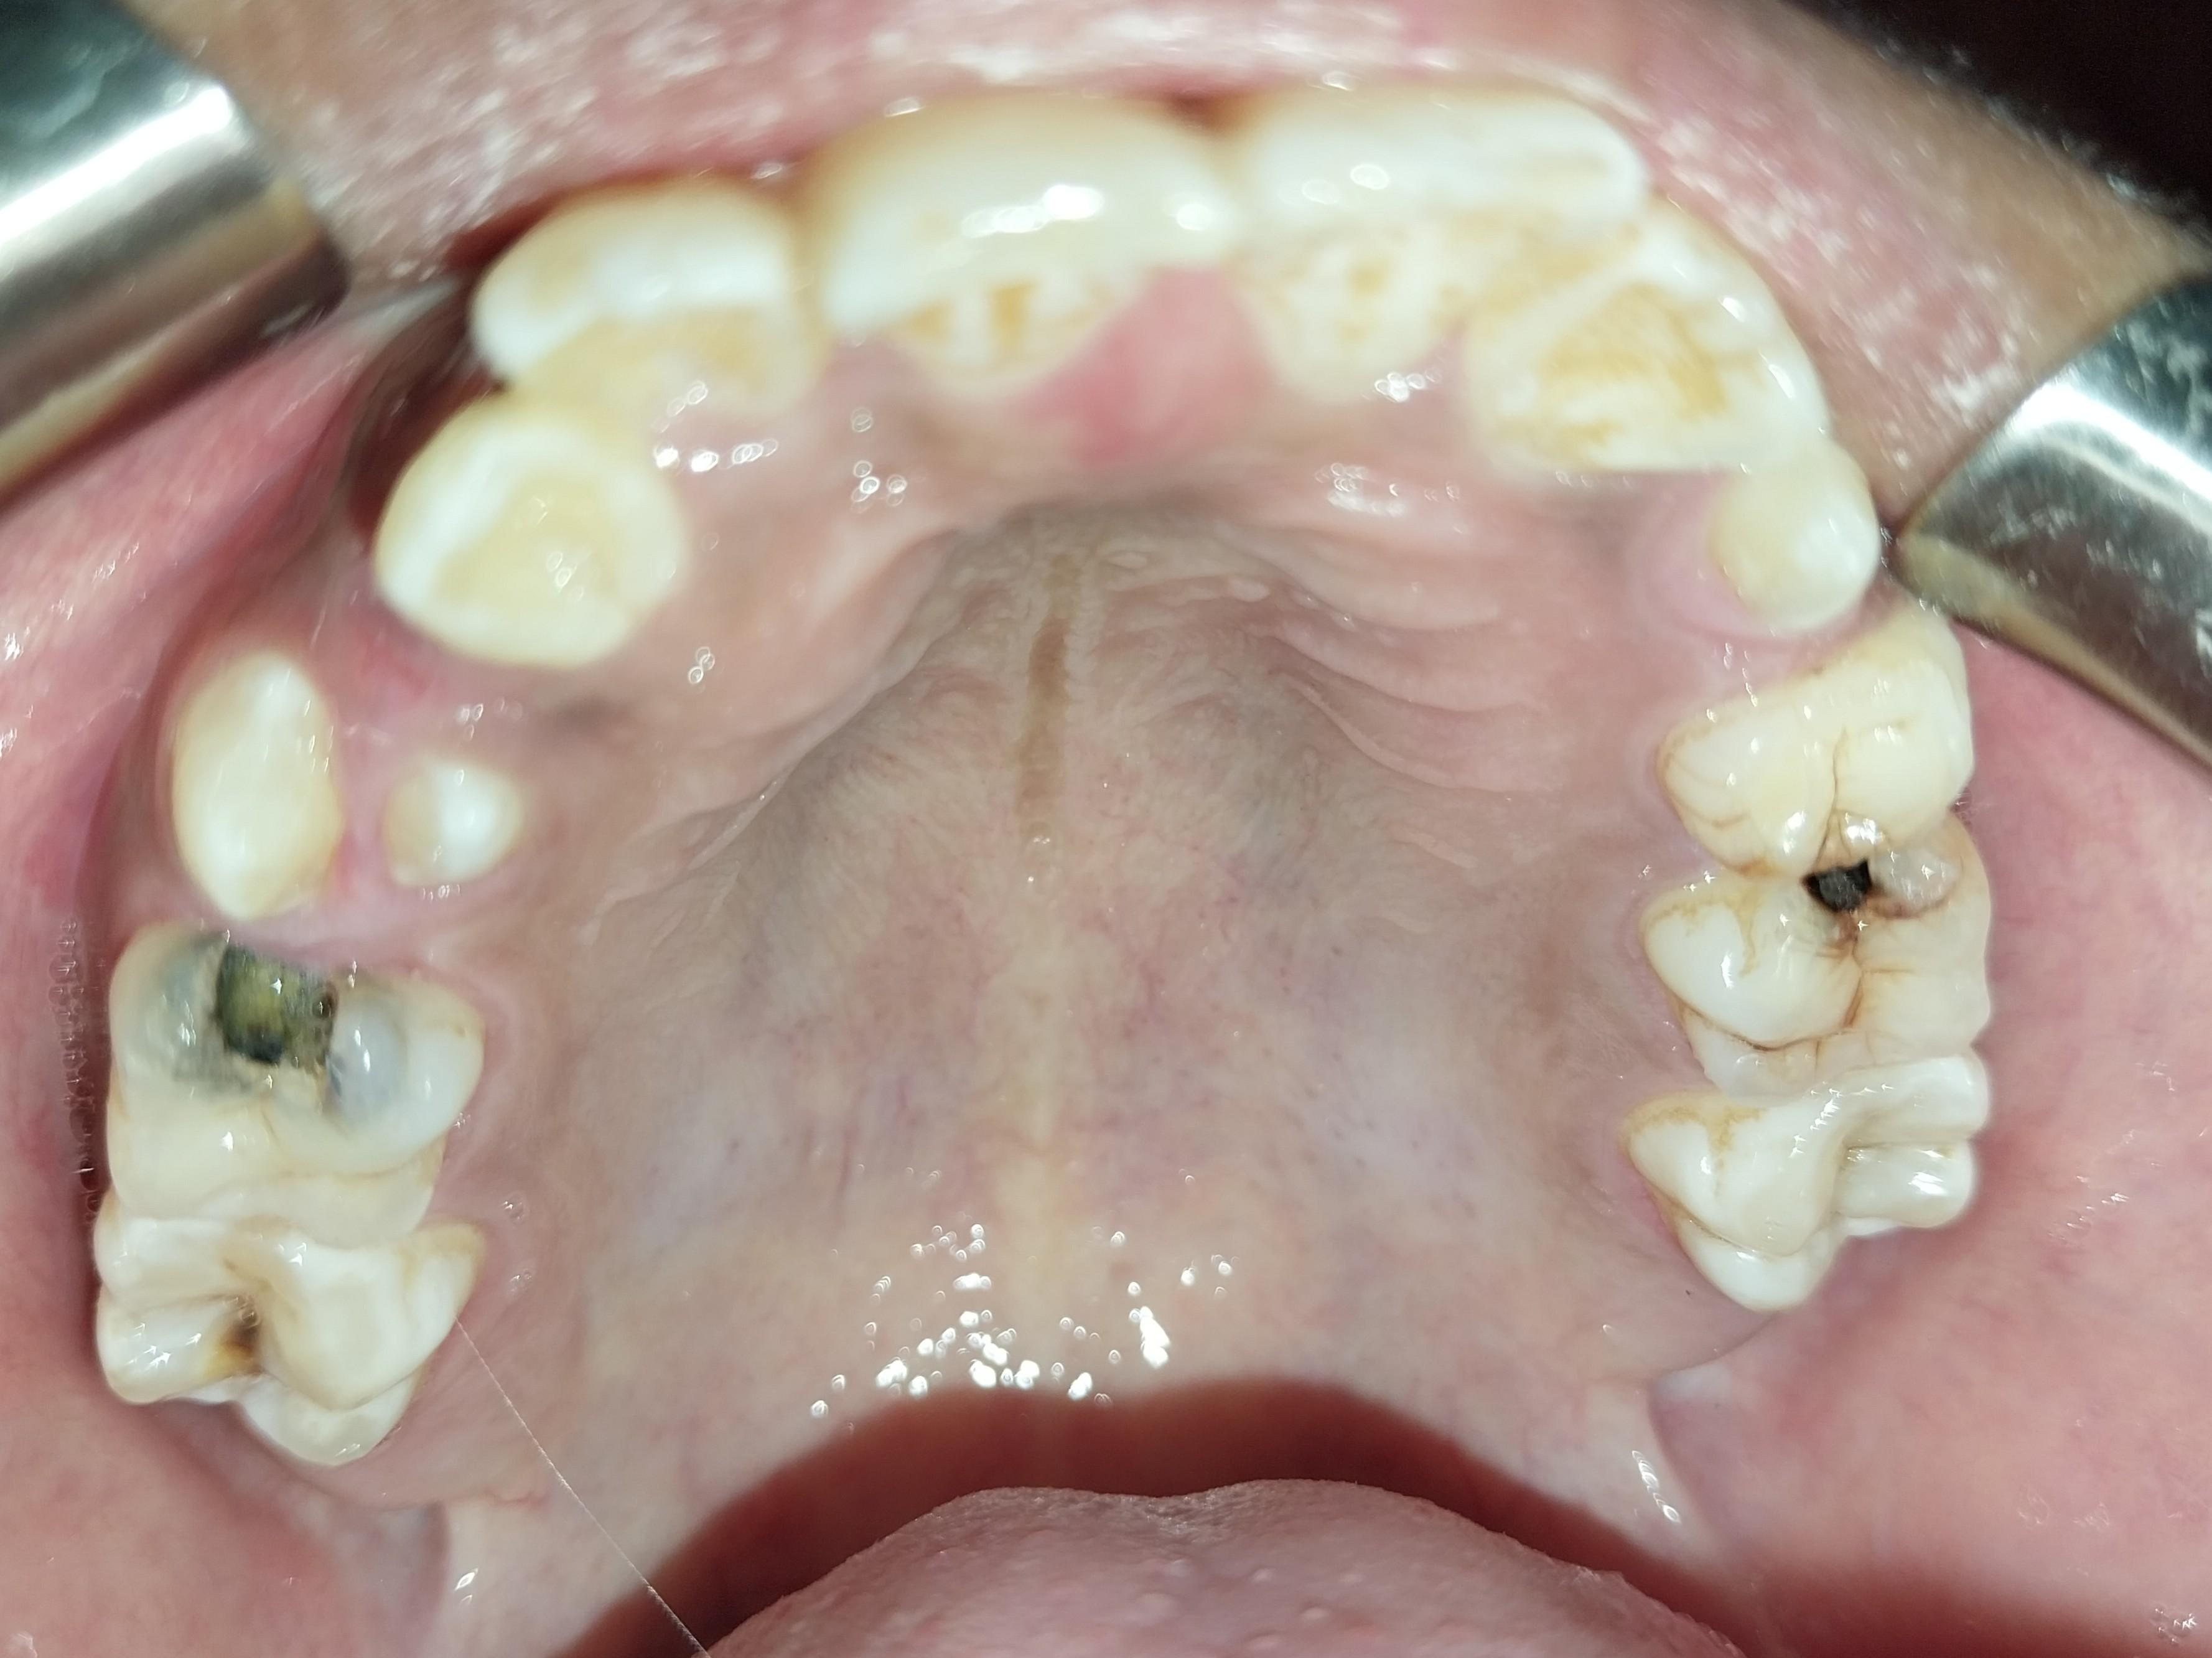d: (96, 925, 489, 1250), (93, 1202, 487, 1468), (1657, 851, 1994, 1077)
